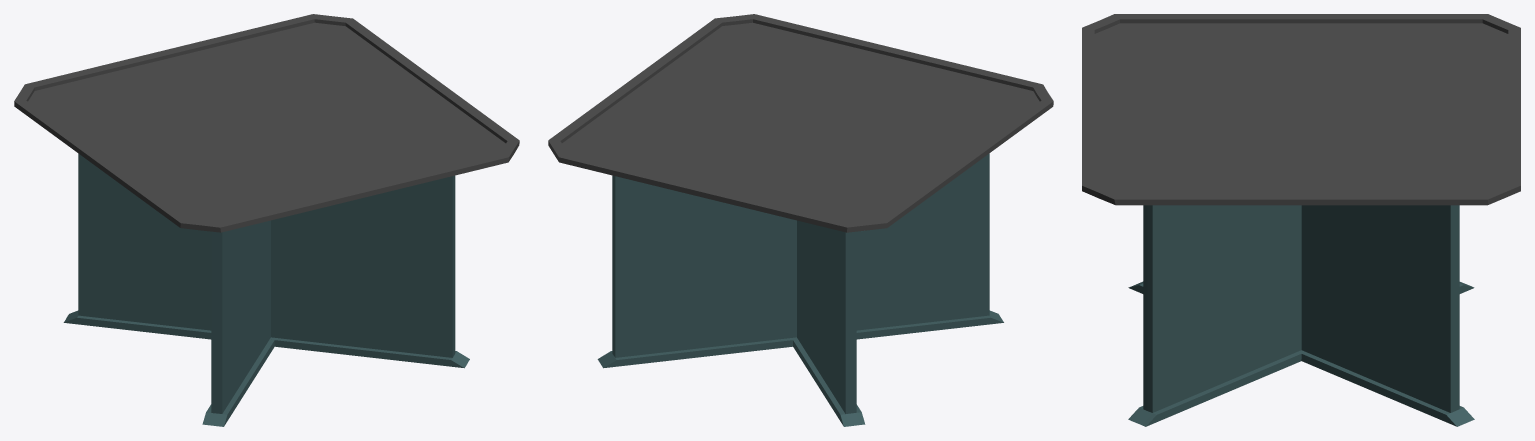
File: Table.fbx
3 views of the same model, side by side, from view 1: azimuth 30°, elevation 25°; view 2: azimuth 150°, elevation 25°; view 3: azimuth 270°, elevation 25° (orthographic). The views are drawn at different scales.
Parts seen in each view (by area): view 1: Table; view 2: Table; view 3: Table.
Boxes of the visible parts, <box> form: Table: <box>14,14,519,426</box>; Table: <box>548,14,1053,426</box>; Table: <box>1082,14,1520,426</box>.
Size of the model in its own units: 120 by 74.5 by 120.
